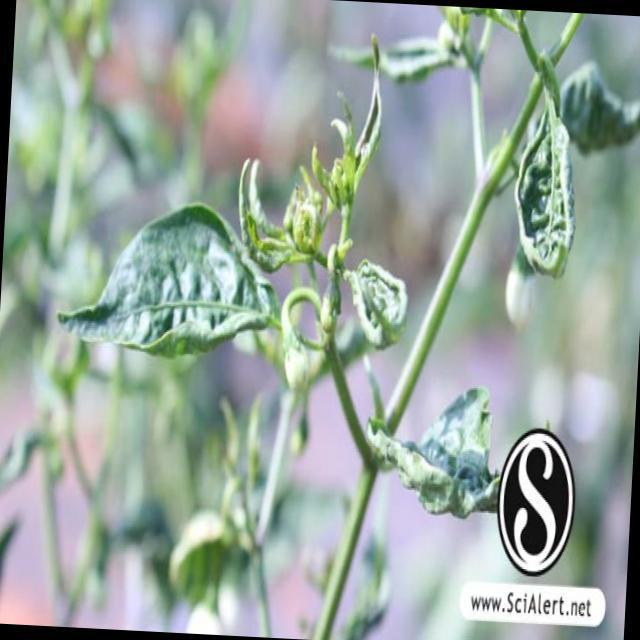Yellow Curl Virus: (58, 198, 283, 370), (364, 378, 507, 524), (509, 86, 582, 296), (347, 256, 423, 356)
